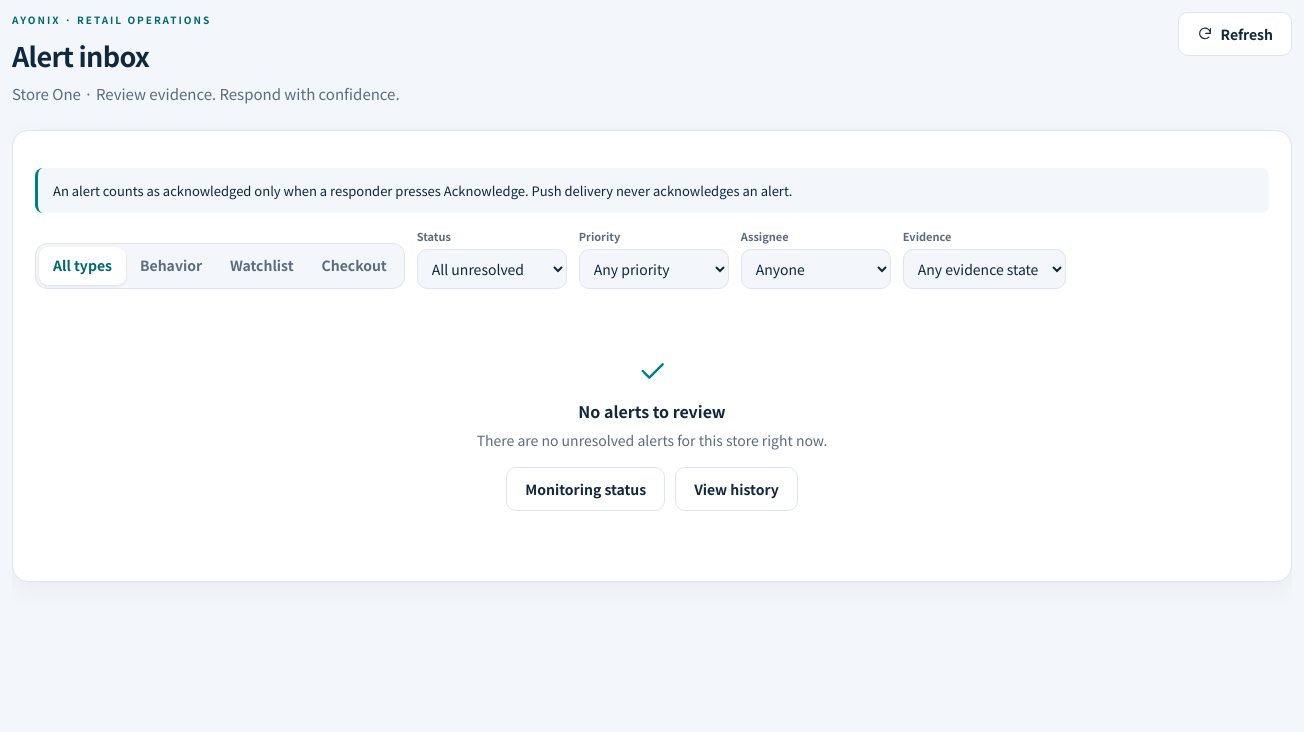
it: Alert inbox (web-19) › channel tabs filter server-side
Expected: the heading "No alerts to review" is shown, [578,399,726,423]
Click the button "Checkout": (354, 266) [308,247,401,285]
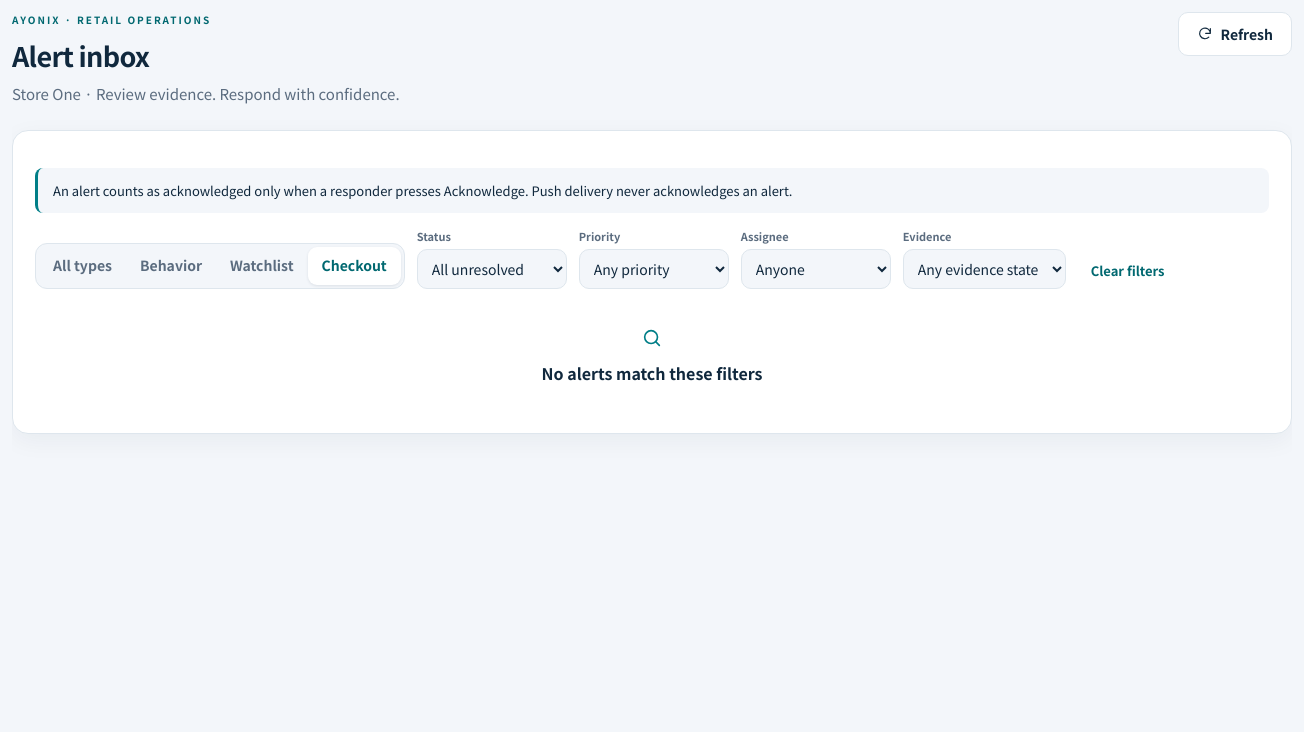
Expected: the heading "No alerts match these filters" is shown, [542,361,762,385]
